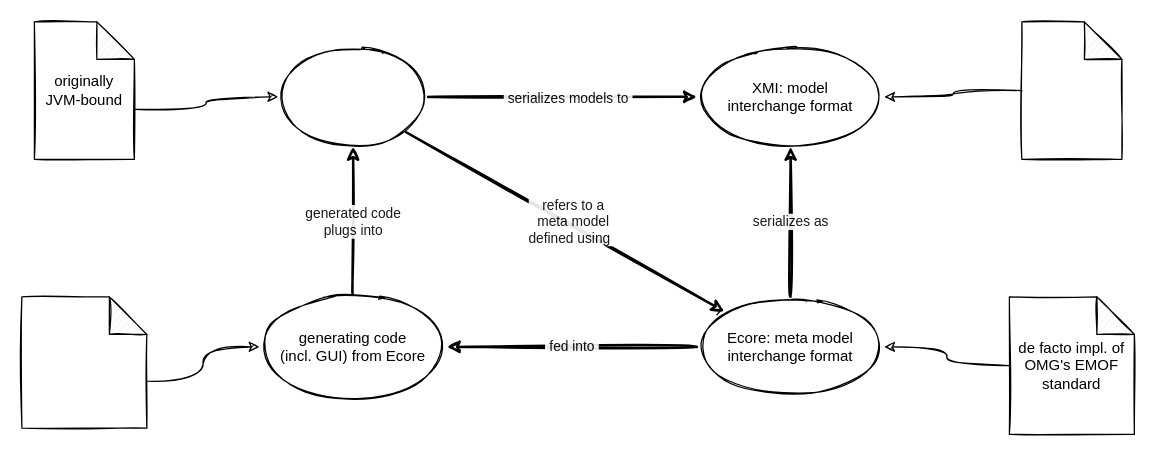
The diagram is 1156 pixels wide and 456 high, and some of its shapes have lost their labels. The shapes that lost their labels are listed below. From the top down, each one's box as (x1, y1, x2, y2) in pixels, then its label:
(277, 46, 428, 147): Runtime / in-memory model management
(1021, 21, 1122, 159): XML format standardized by the OMG
(21, 296, 147, 428): least used (probably)
